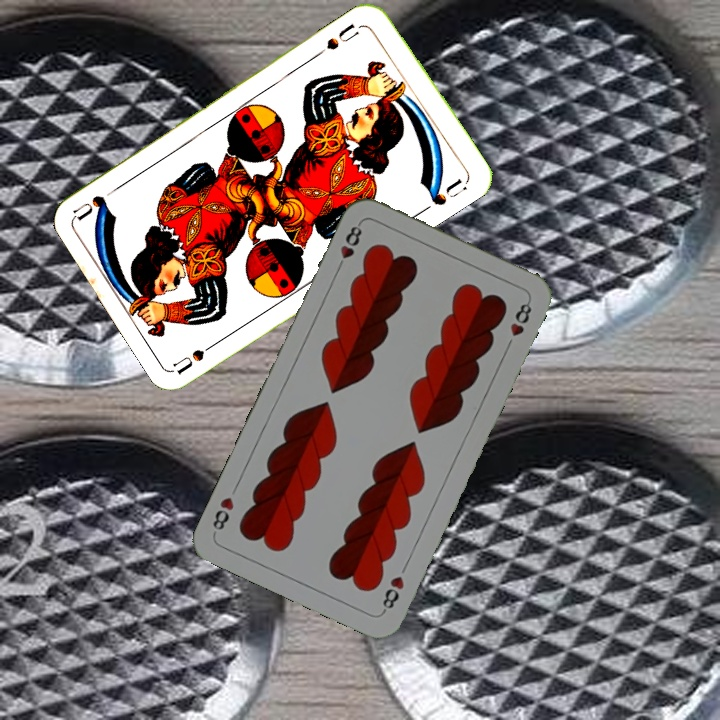H8: (332, 218, 365, 274), (378, 571, 407, 615)
SU: (170, 334, 225, 376), (315, 19, 368, 58)
